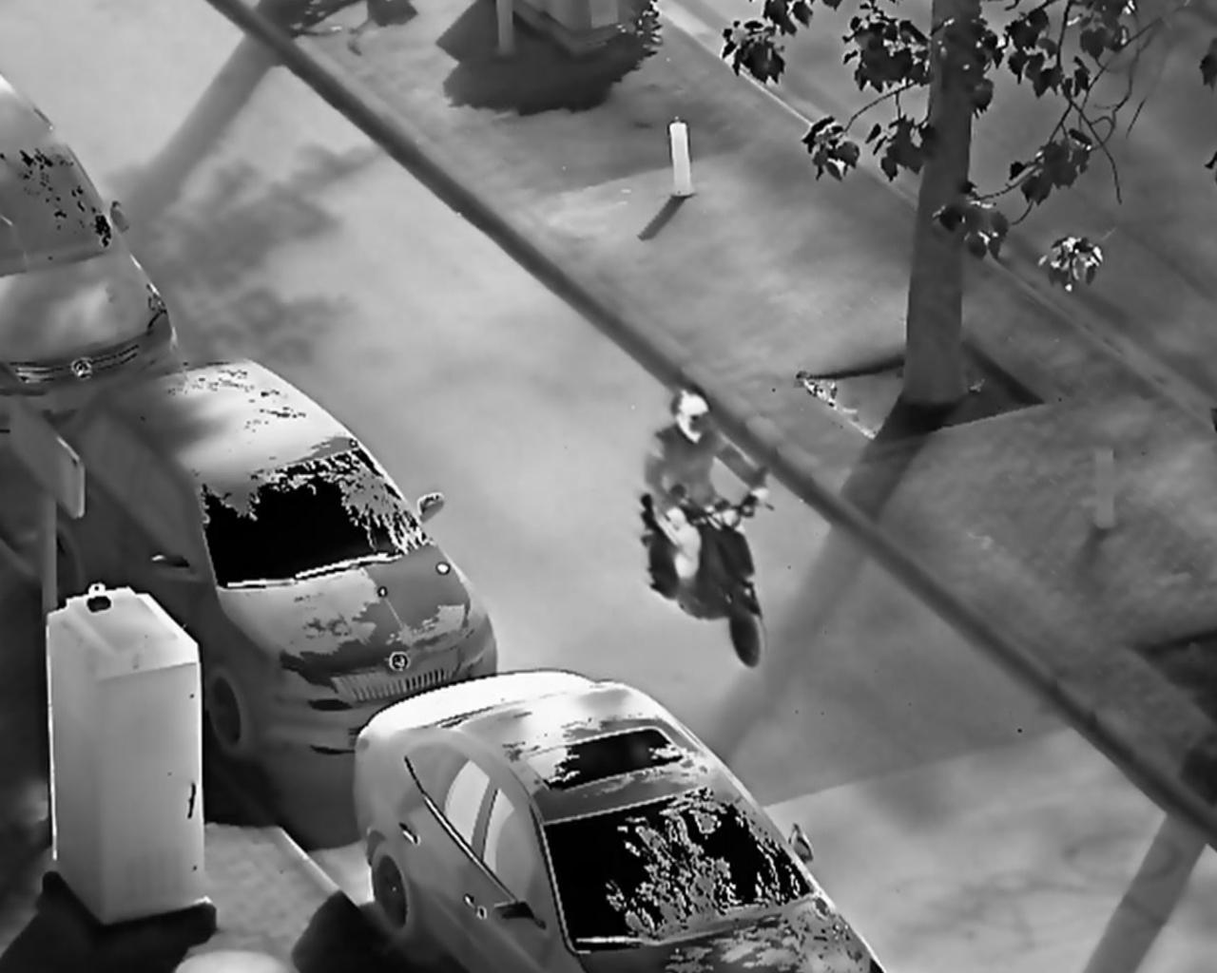person: (645, 384, 778, 614)
